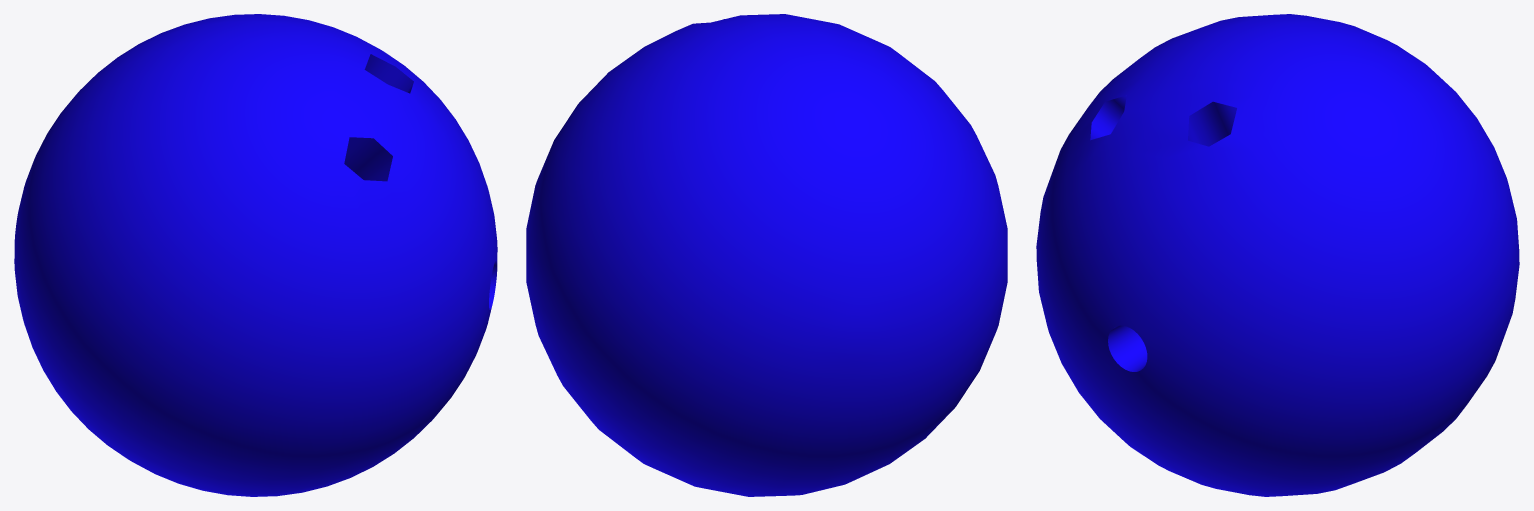
The model's file is bowlingBallColor2.fbx.
3 renders of one model, left to right at view 1: azimuth 30°, elevation 25°; view 2: azimuth 150°, elevation 25°; view 3: azimuth 270°, elevation 25°, orthographic.
Visible parts, largest first — view 1: ball1; view 2: ball1; view 3: ball1.
Part boxes in pixels (x1,y1,x2,y2): ball1: (14,14,497,496); ball1: (526,14,1007,496); ball1: (1036,14,1519,496).
Bounding box in the file's own units: 9.01 × 9.01 × 9.01.
